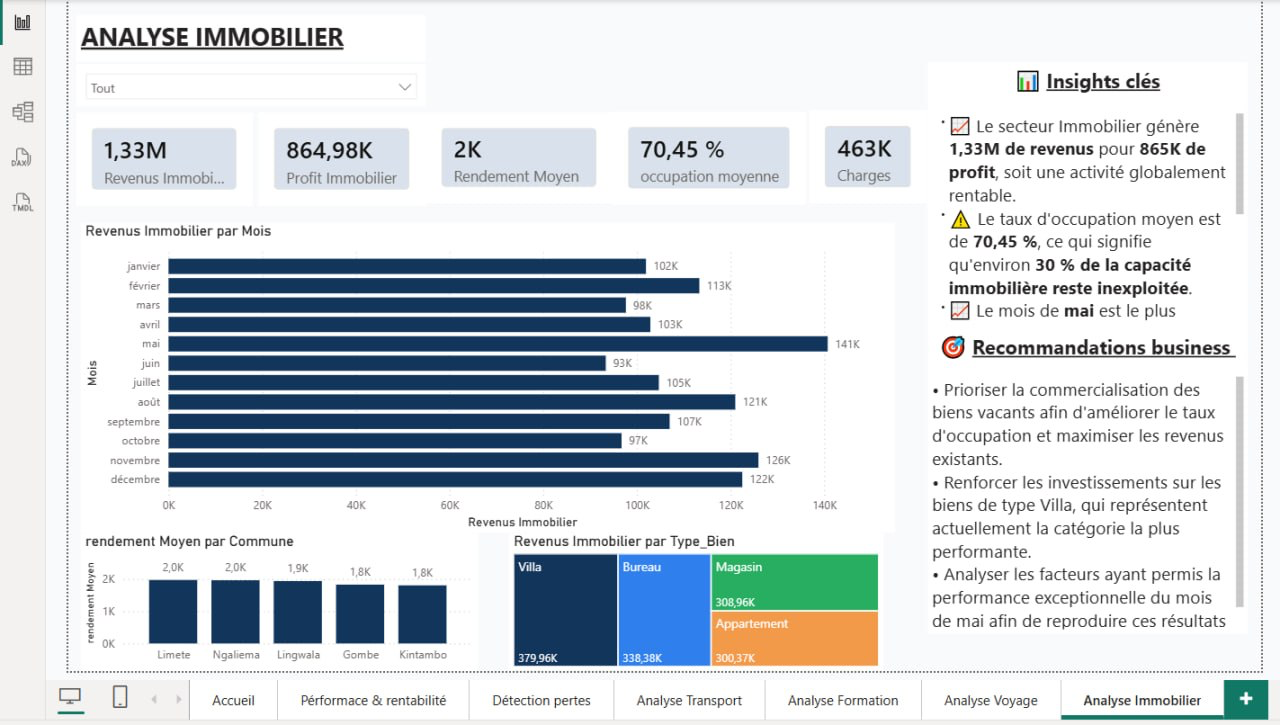

What the dashboard file says about the page in this screenshot:
{"tool":"powerbi","page":{"name":"Analyse Immobilier","canvas":[1280,720],"ordinal":6},"visuals":[{"type":"textbox","box":[8.4,15.7,375.2,50.7],"z":0},{"type":"cardVisual","fields":{"Data":["Immobilier.Revenus Immobilier"]},"box":[8.4,120.6,189.4,100.1],"z":1000},{"type":"cardVisual","fields":{"Data":["Immobilier.Profit Immobilier"]},"box":[203.9,120.6,179.8,100.1],"z":2000},{"type":"cardVisual","fields":{"Data":["Immobilier.Charges"]},"box":[795,118.2,126.7,100.1],"z":3000},{"type":"cardVisual","fields":{"Data":["Alerts_Opportunities.occupation moyenne"]},"box":[583.9,119.4,207.5,100.1],"z":4000},{"type":"cardVisual","fields":{"Data":["Immobilier.Rendement Moyen"]},"box":[383.6,120.6,200.3,97.7],"z":5000},{"type":"treemap","fields":{"Group":["Immobilier.Type_Bien"],"Values":["Immobilier.Revenus Immobilier"]},"box":[472.9,571.9,401.7,148.4],"z":6000},{"type":"clusteredBarChart","fields":{"Category":["Immobilier.Date.Variation.Hiérarchie de dates.Mois"],"Y":["Immobilier.Revenus Immobilier"]},"box":[13.3,238.9,873.5,333],"z":7000},{"type":"slicer","fields":{"Values":["Immobilier.Date.Variation.Hiérarchie de dates.Année","Immobilier.Date.Variation.Hiérarchie de dates.Mois","Immobilier.Type_Bien","Immobilier.Quartier"]},"box":[8.4,68.8,375.2,45.8],"z":8000},{"type":"columnChart","fields":{"Category":["Immobilier.Commune"],"Y":["Immobilier.rendement Moyen"]},"box":[13.8,571.2,426.2,148.8],"z":9000},{"type":"textbox","box":[921.7,66.4,343.8,50.7],"z":10000},{"type":"textbox","box":[921.7,117,343.8,235.3],"z":11000},{"type":"textbox","box":[921.7,352.3,343.8,47.1],"z":12000},{"type":"textbox","box":[921.7,399.3,343.8,281.1],"z":13000}]}

Visuals, with their boxes on the page's 1280x720 design canvas (x1, y1, x2, y2). These are canvas units, not pixel positions in the 1280x725 screenshot, which may show the page scaled, cropped or inside an application window:
textbox: 8/16/384/66
cardVisual - Immobilier.Revenus Immobilier: 8/121/198/221
cardVisual - Immobilier.Profit Immobilier: 204/121/384/221
cardVisual - Immobilier.Charges: 795/118/922/218
cardVisual - Alerts_Opportunities.occupation moyenne: 584/119/791/220
cardVisual - Immobilier.Rendement Moyen: 384/121/584/218
treemap - Immobilier.Type_Bien x Immobilier.Revenus Immobilier: 473/572/875/720
clusteredBarChart - Immobilier.Date.Variation.Hiérarchie de dates.Mois x Immobilier.Revenus Immobilier: 13/239/887/572
slicer - Immobilier.Date.Variation.Hiérarchie de dates.Année x Immobilier.Date.Variation.Hiérarchie de dates.Mois: 8/69/384/115
columnChart - Immobilier.Commune x Immobilier.rendement Moyen: 14/571/440/720
textbox: 922/66/1266/117
textbox: 922/117/1266/352
textbox: 922/352/1266/399
textbox: 922/399/1266/680
